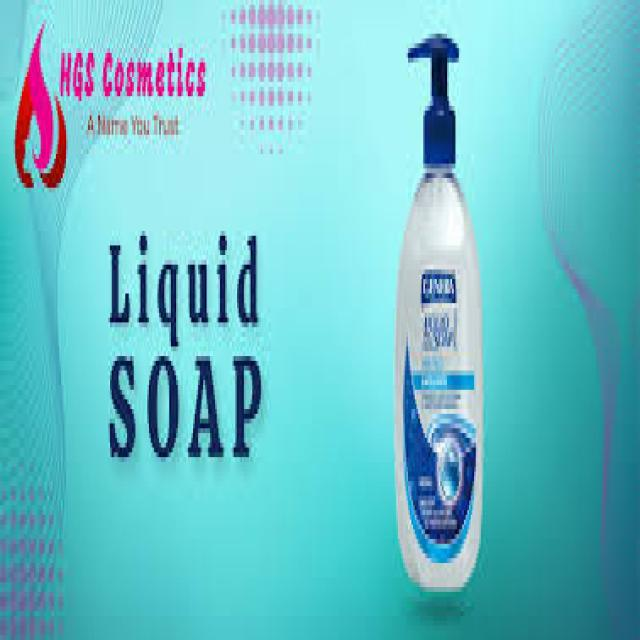liquid soap: (392, 10, 488, 612)
